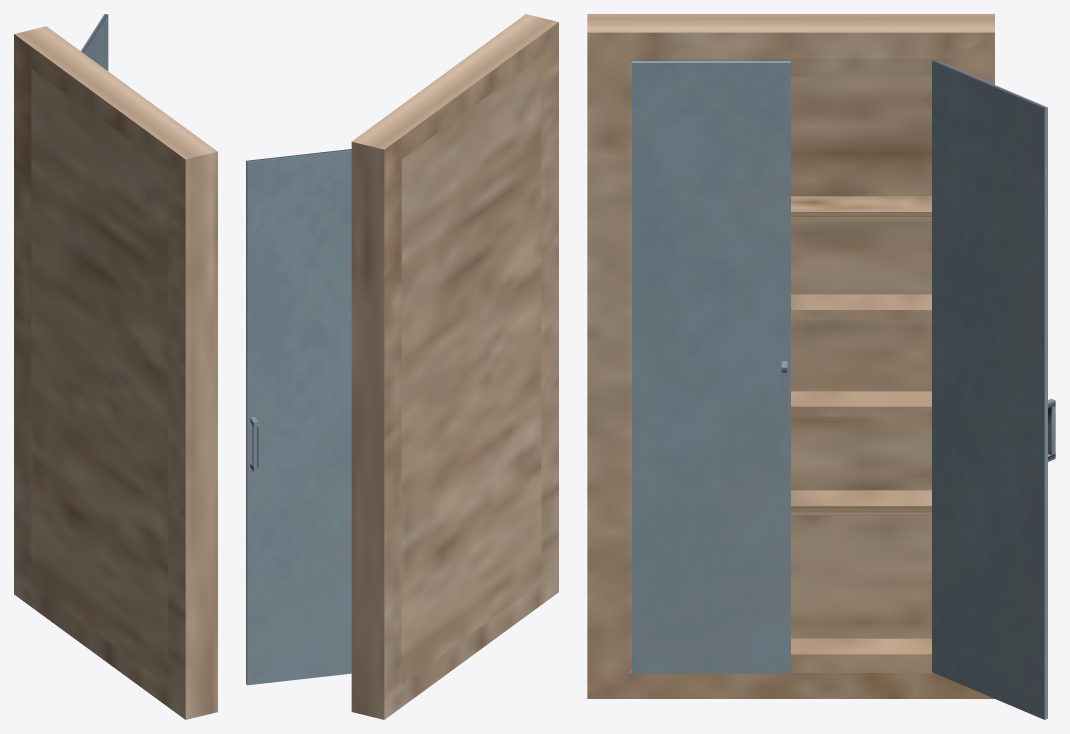
The model's file is Armario C. Aberto.fbx.
3 views of the same model, side by side, from view 1: azimuth 30°, elevation 25°; view 2: azimuth 150°, elevation 25°; view 3: azimuth 270°, elevation 25° (orthographic). The views are drawn at different scales.
Parts seen in each view (by area): view 1: Cube; view 2: Cube; view 3: Cube.
Part boxes in pixels (x1,y1,x2,y2): Cube: [14, 14, 217, 719]; Cube: [246, 14, 558, 719]; Cube: [587, 14, 1055, 719].
Size of the model in its own units: 146 by 681 by 433.
